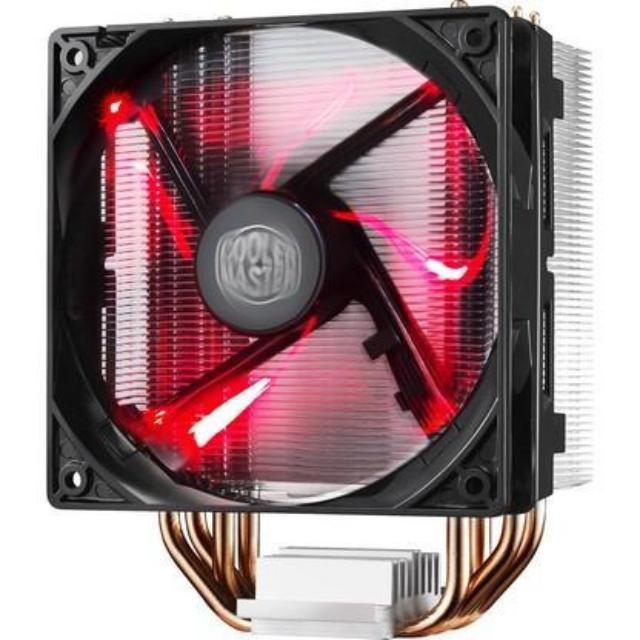CPU_Fan: (44, 12, 598, 640)
